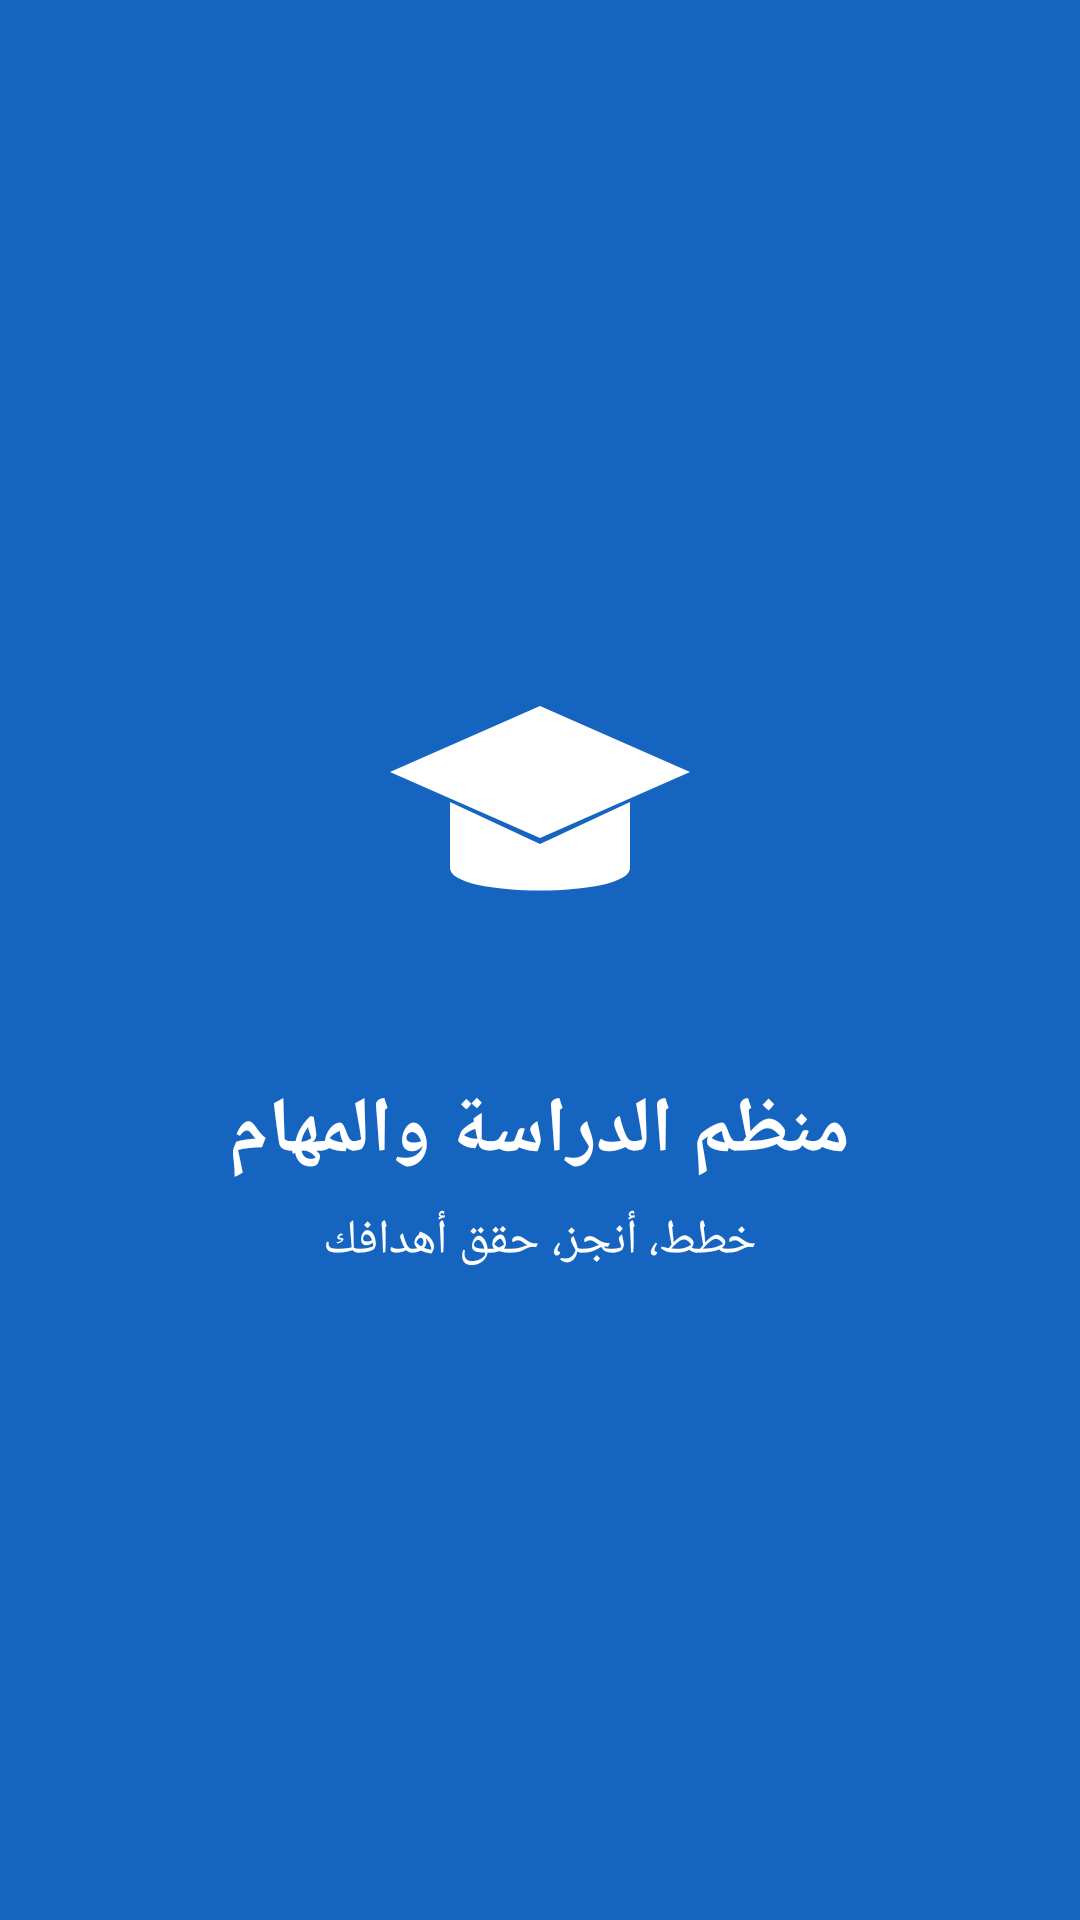

Icons on this 1080 × 1920 Android screen, each with its box as (x1, y1, x2, y2):
شعار التطبيق: (390, 706, 690, 891)
